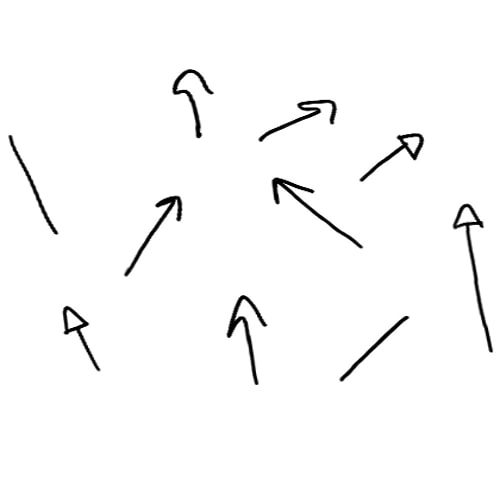arrow: (269, 173, 365, 253), (453, 203, 492, 353), (122, 196, 182, 275), (226, 296, 269, 384), (358, 132, 425, 183), (258, 99, 337, 142), (170, 65, 214, 141), (59, 305, 100, 371)
arrownohead: (8, 132, 60, 236), (344, 315, 407, 377)
